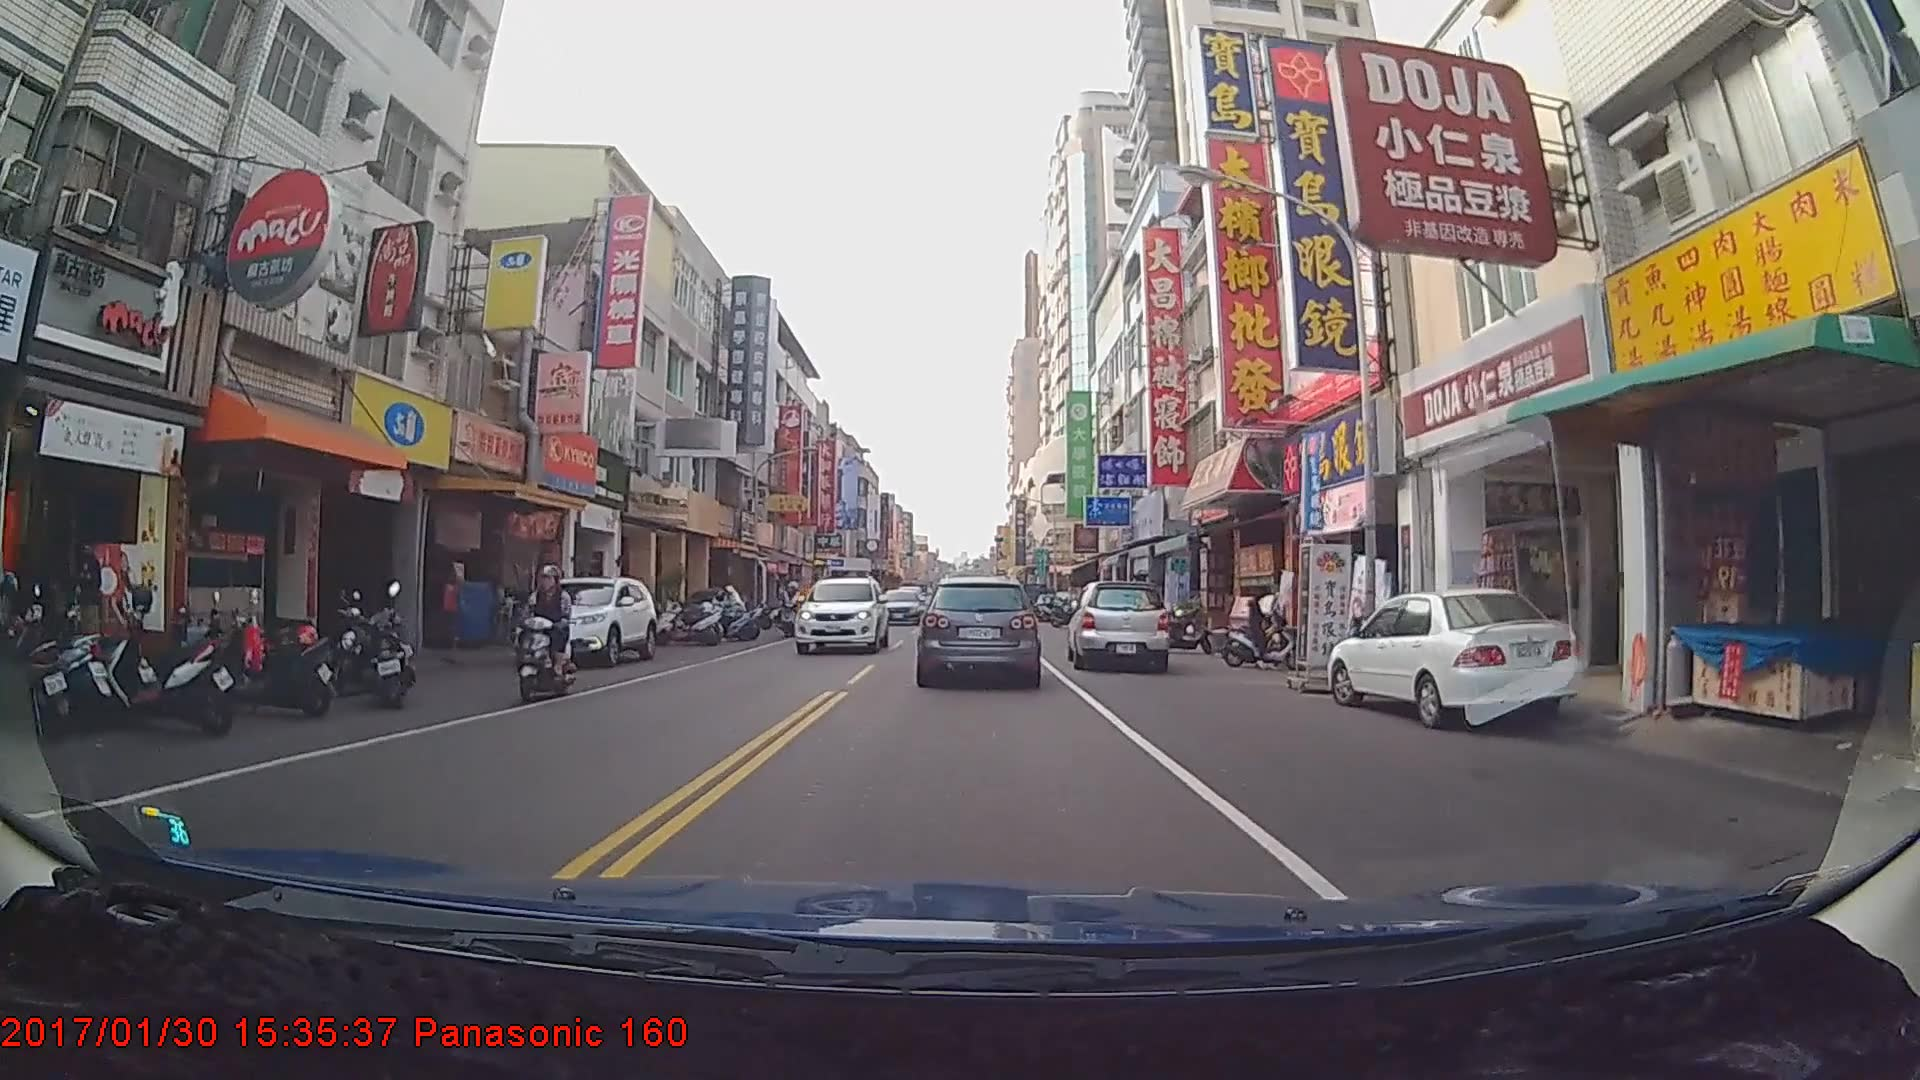rider: (515, 562, 582, 704), (1220, 580, 1310, 669), (777, 577, 809, 637)
vehicle: (1326, 587, 1585, 726), (511, 574, 656, 667), (920, 577, 1040, 684), (1069, 574, 1171, 668), (795, 573, 888, 653), (874, 586, 924, 624)
